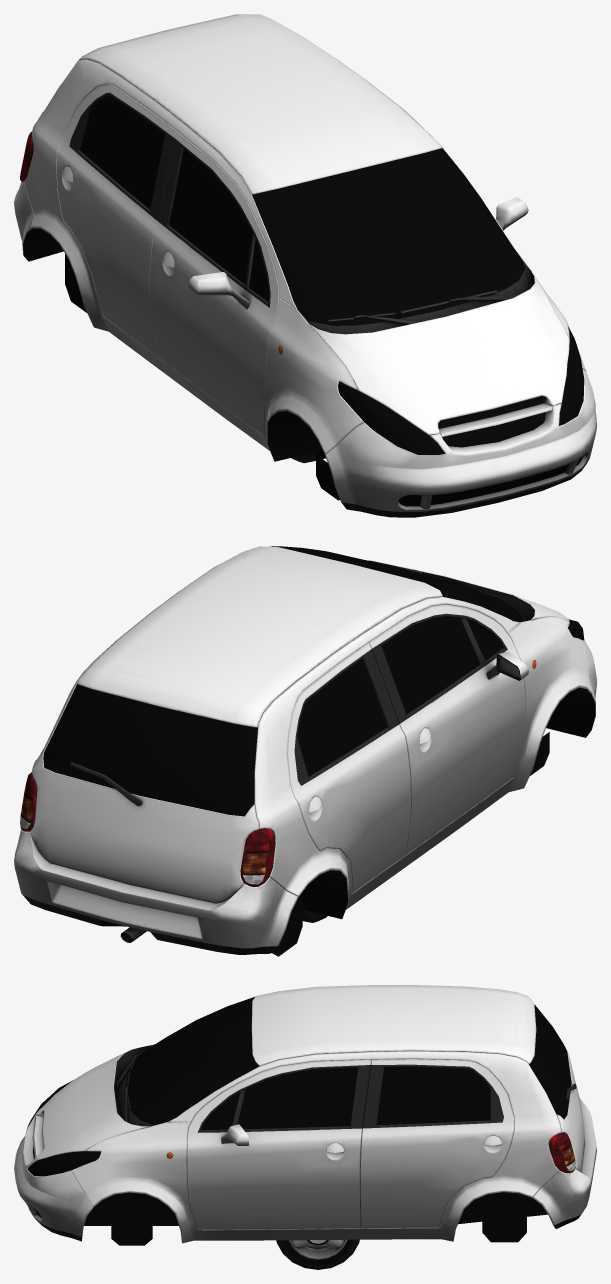
File: gen-compact.lod.glb
The picture shows the model from 3 angles, top to bottom: view 1: azimuth 30°, elevation 25°; view 2: azimuth 150°, elevation 25°; view 3: azimuth 270°, elevation 25°; orthographic projection. The views are drawn at different scales.
Visible parts, largest first — view 1: body; view 2: body; view 3: body, wheel.
Part boxes in pixels (<box>): body: <box>14,14,596,517</box>; body: <box>14,546,596,956</box>; body: <box>14,985,596,1245</box>; wheel: <box>276,1239,359,1269</box>.
Bounding box in the file's own units: 1.61 × 1.56 × 3.26.
Materials: 6 (5 with a texture image).
